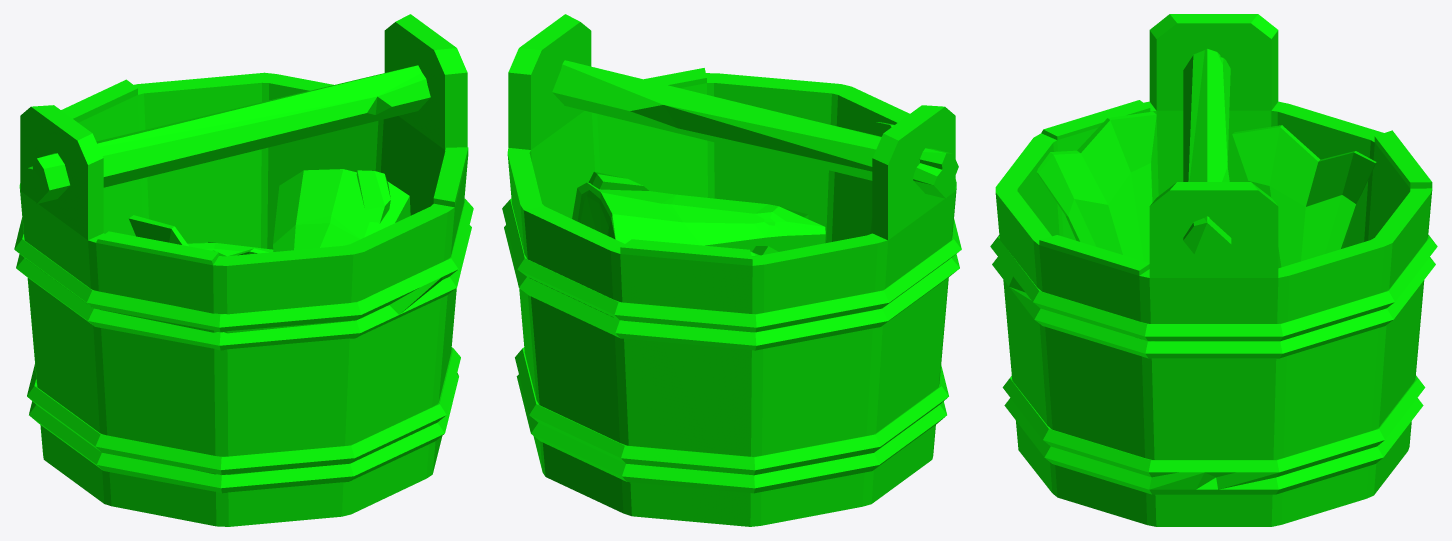
The model's file is SM_Bucket_Fish_Parts.fbx.
3 views of the same model, side by side, from view 1: azimuth 30°, elevation 25°; view 2: azimuth 150°, elevation 25°; view 3: azimuth 270°, elevation 25° (orthographic). The views are drawn at different scales.
Parts seen in each view (by area): view 1: bucket-fish-parts; view 2: bucket-fish-parts; view 3: bucket-fish-parts.
Part boxes in pixels (x1,y1,x2,y2): bucket-fish-parts: (14, 14, 473, 526); bucket-fish-parts: (502, 14, 961, 526); bucket-fish-parts: (990, 14, 1437, 526).
Bounding box in the file's own units: 0.4205 × 0.352 × 0.4129.
